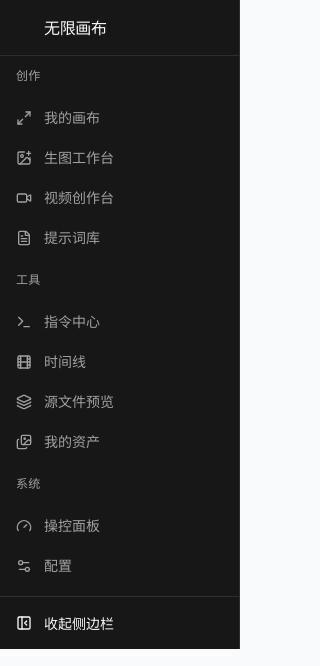
Test: app sidebar › toggles and persists the collapsed state
Click the button "收起侧边栏": [120, 623] box [8,605,231,641]
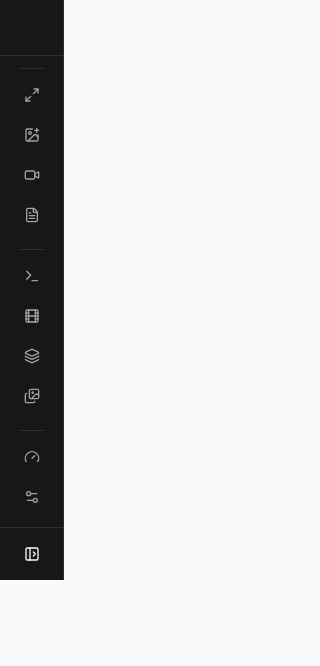
Expected: the button named "展开侧边栏" is collapsed, [8,536,55,572]
